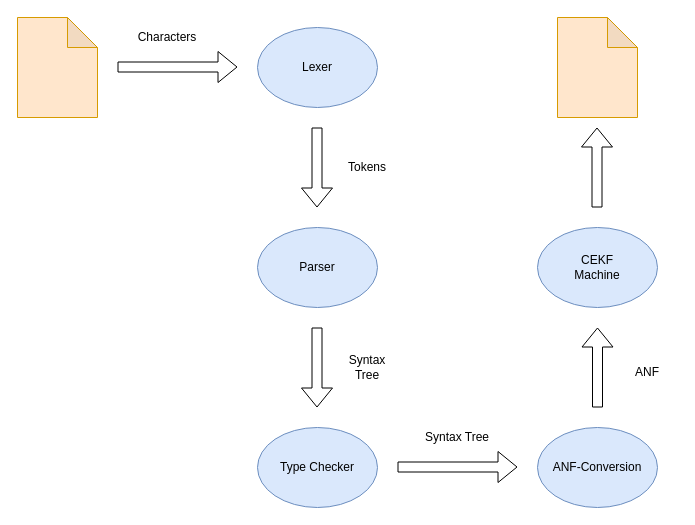
Some shapes in this 695 by 525 pixel diagram are drawn without their labels. The shapes that lost their labels are listed below. From the top down, each one's box as (x1, y1, x2, y2) in pixels, then its label:
(16, 16, 98, 118): Source
(556, 16, 638, 118): Output
